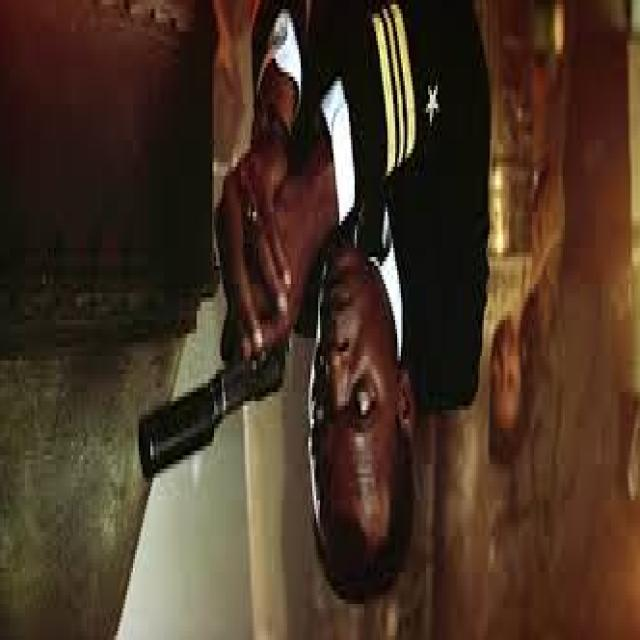gun: (118, 229, 304, 497)
